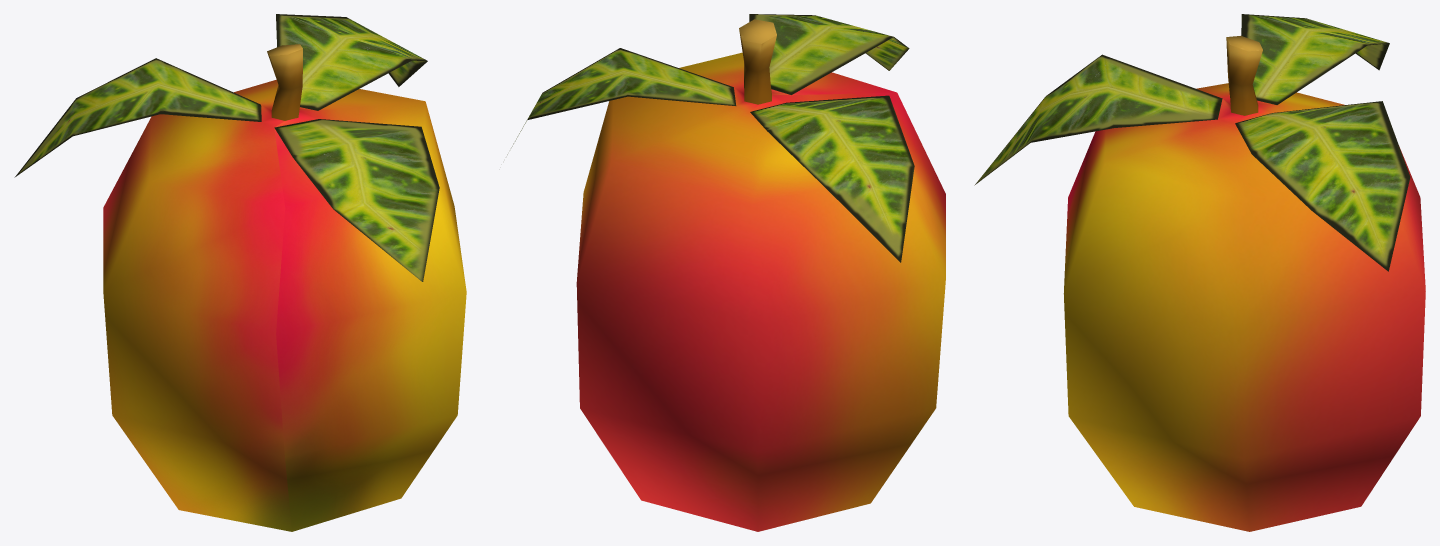
The model's file is wumpa_fruit_model.fbx.
The picture shows the model from 3 angles, left to right: view 1: azimuth 30°, elevation 25°; view 2: azimuth 150°, elevation 25°; view 3: azimuth 270°, elevation 25°; orthographic projection. The views are drawn at different scales.
Visible parts, largest first — view 1: pCylinder1; view 2: pCylinder1; view 3: pCylinder1.
Boxes of the visible parts, x1,y1,x2,y2 form: pCylinder1: (14,14,466,531); pCylinder1: (507,14,945,531); pCylinder1: (974,14,1425,531).
Size of the model in its own units: 2.25 by 2.53 by 2.22.
Materials: 1 (1 with a texture image).
